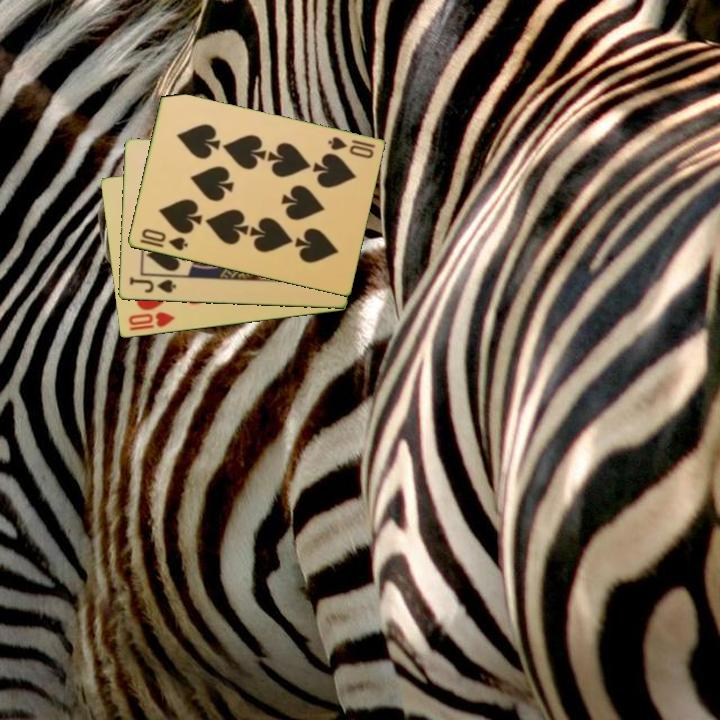10h: (125, 309, 177, 334)
10s: (136, 225, 190, 254), (324, 133, 378, 162)
Js: (126, 273, 178, 296)
